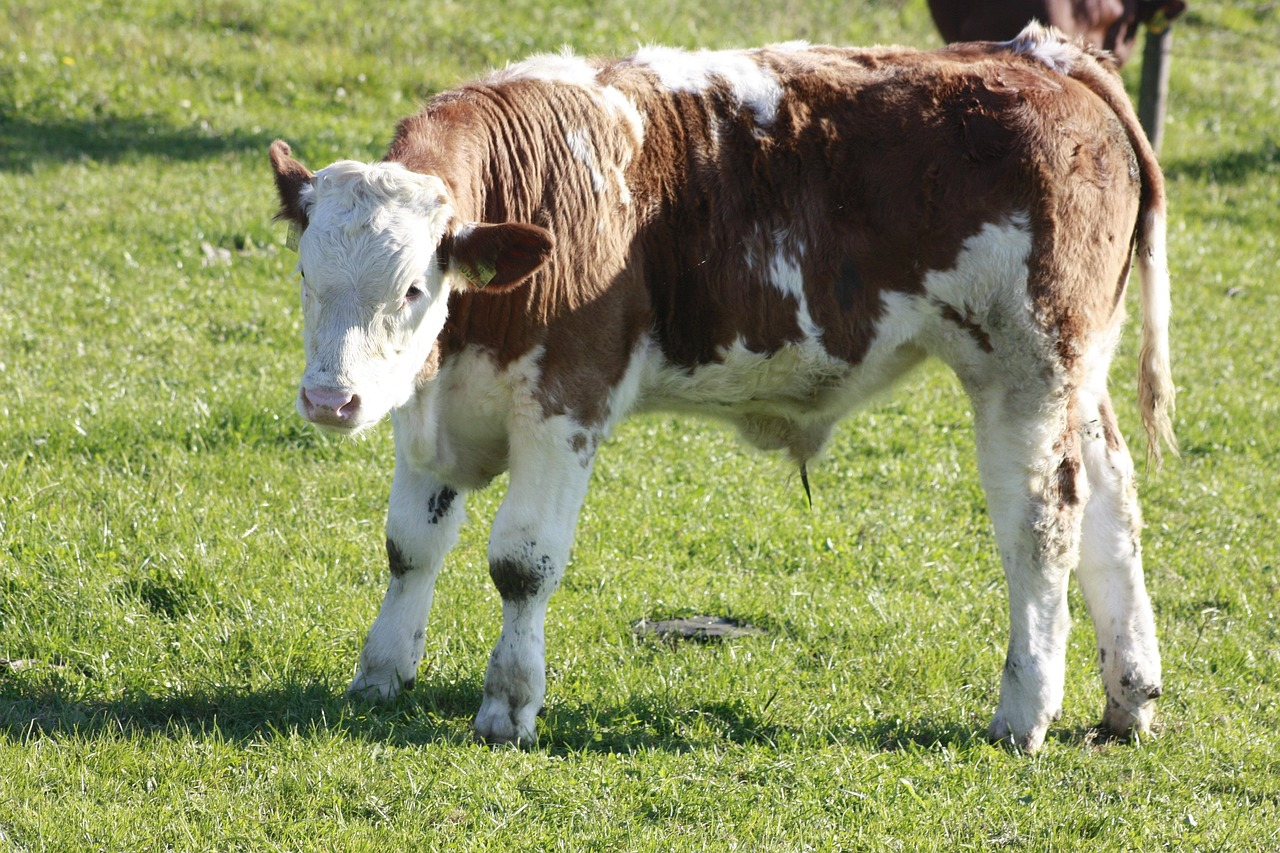bovino: (271, 45, 1170, 742)
